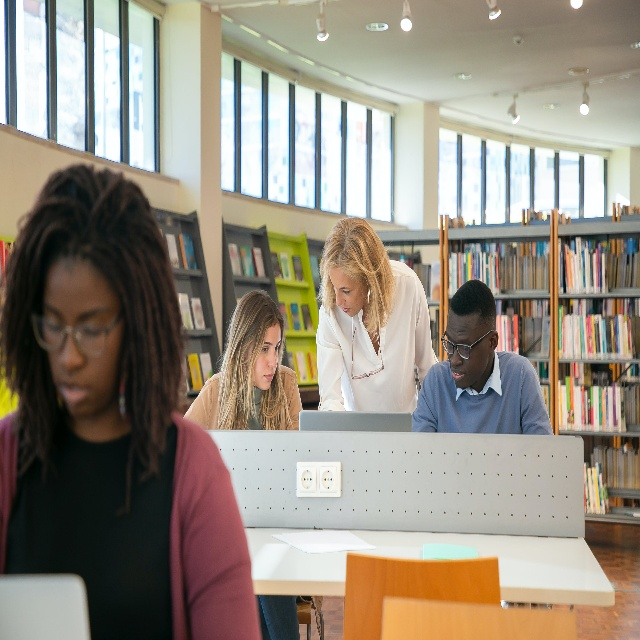Gafas: (29, 306, 125, 360), (440, 329, 493, 360)
